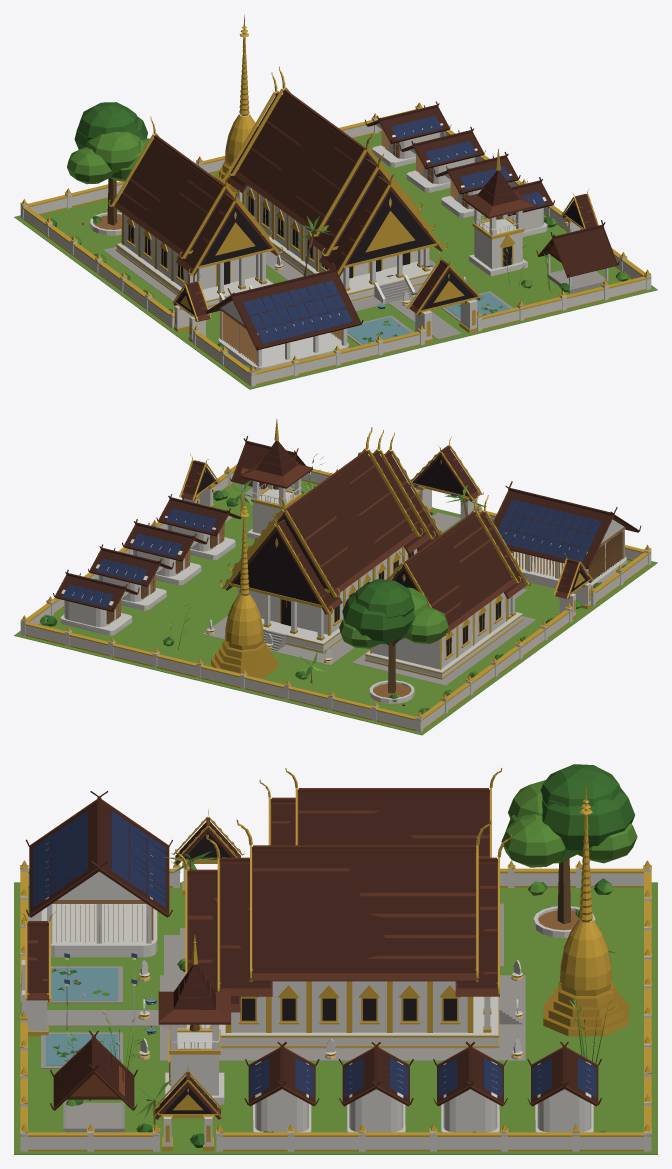
File: temple_3.glb
3 views of the same model, one above another, from view 1: azimuth 30°, elevation 25°; view 2: azimuth 150°, elevation 25°; view 3: azimuth 270°, elevation 25° (orthographic). The views are drawn at different scales.
Visible parts, largest first — view 1: body; view 2: body; view 3: body.
Boxes of the visible parts, <box> form: body: <box>14,14,657,389</box>; body: <box>14,419,657,735</box>; body: <box>14,764,657,1154</box>.
Size of the model in its own units: 47.9 by 19.51 by 47.9.
